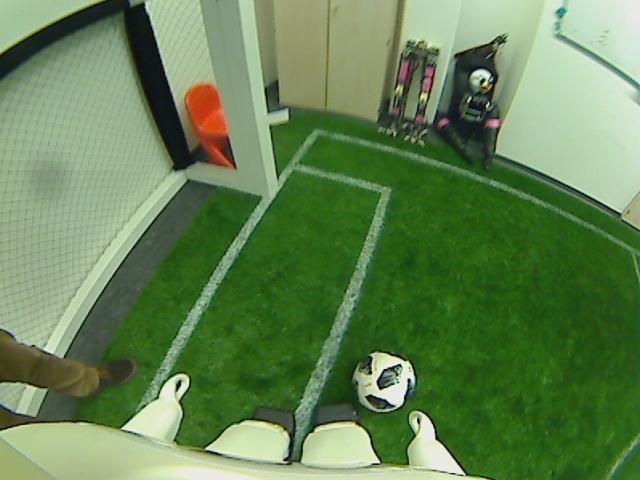ball: (351, 350, 417, 414)
